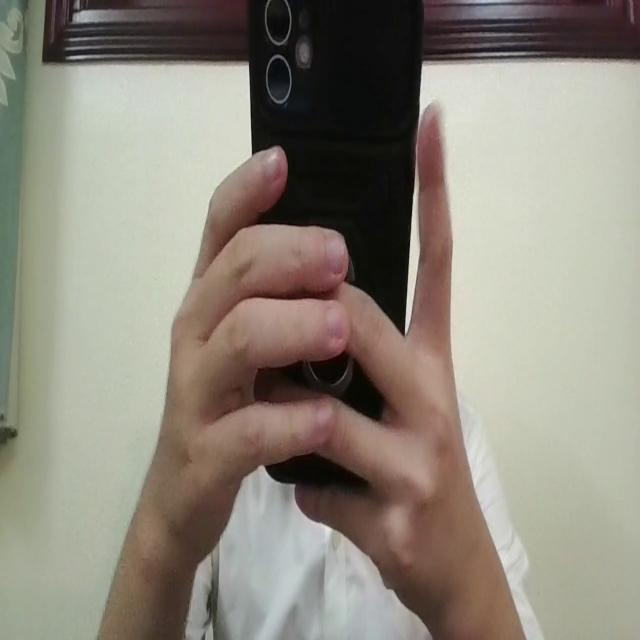phone: (245, 0, 430, 494)
student: (96, 113, 546, 640)
